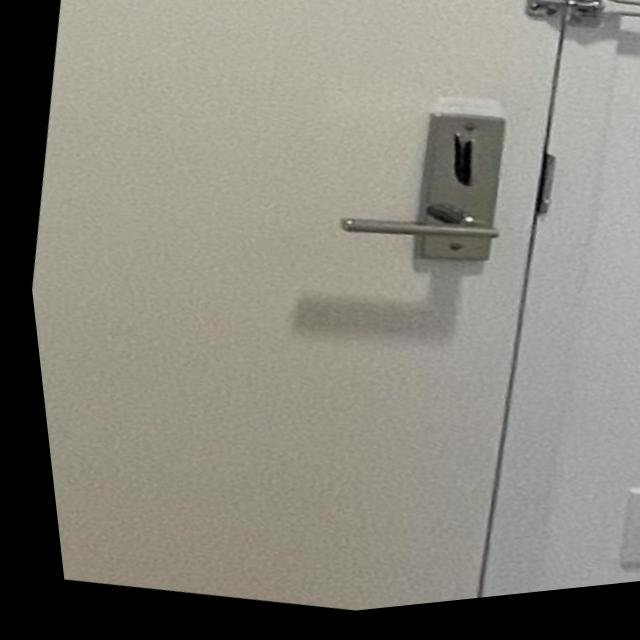door_handle: (300, 179, 519, 293)
